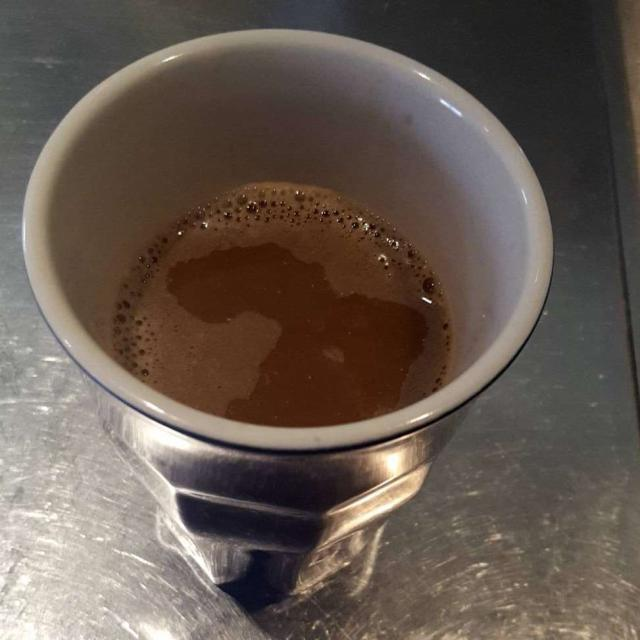coffee: (106, 182, 452, 421)
